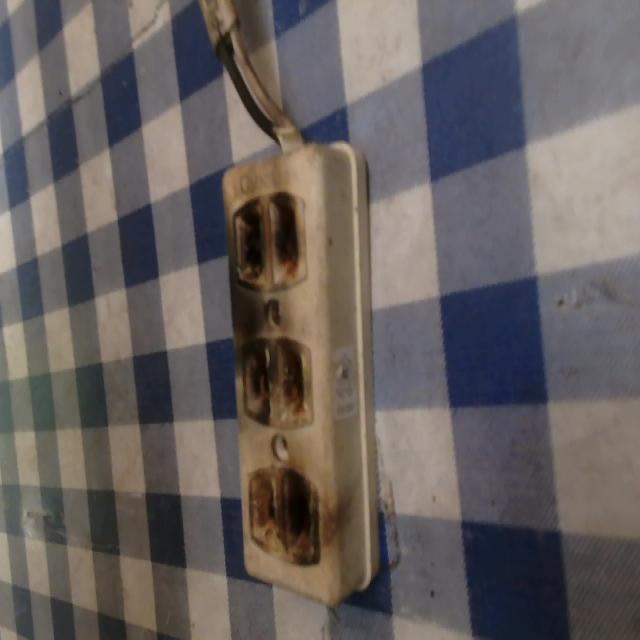-: (228, 191, 309, 293), (243, 463, 322, 564), (237, 332, 316, 432)
